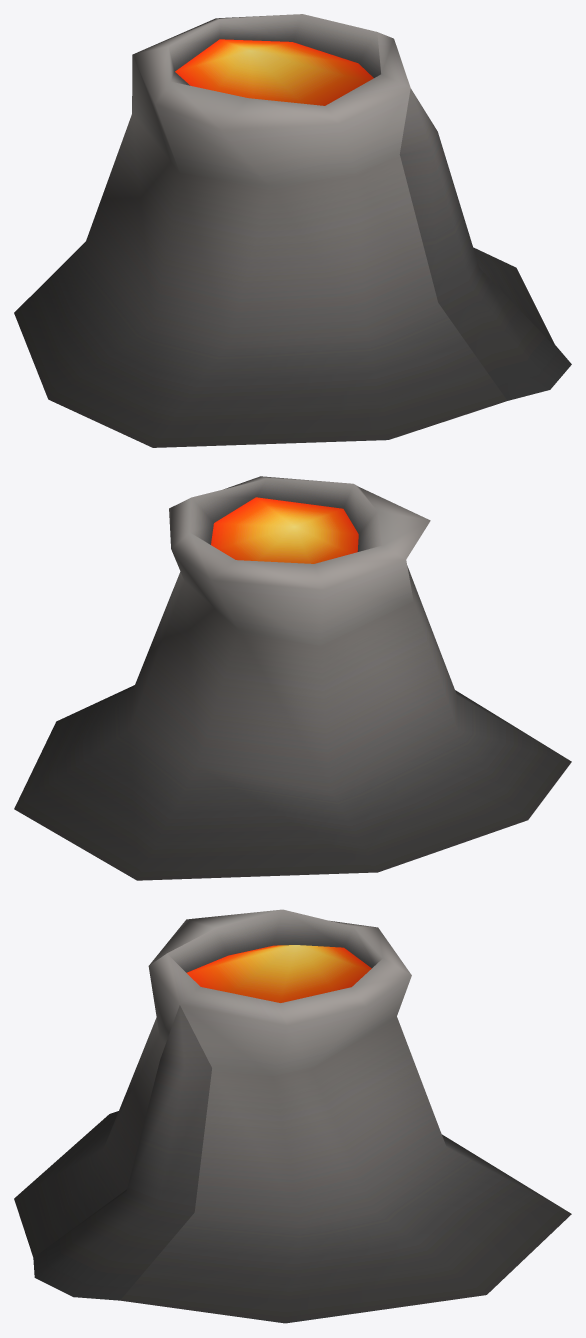
File: m_Vent07_A.fbx
The picture shows the model from 3 angles, top to bottom: view 1: azimuth 30°, elevation 25°; view 2: azimuth 150°, elevation 25°; view 3: azimuth 270°, elevation 25°; orthographic projection. The views are drawn at different scales.
Visible parts, largest first — view 1: m_Vent07_A; view 2: m_Vent07_A; view 3: m_Vent07_A.
Part boxes in pixels (x1,y1,x2,y2): m_Vent07_A: (14,14,571,447); m_Vent07_A: (14,476,571,880); m_Vent07_A: (14,909,571,1323).
Size of the model in its own units: 228 by 124 by 241.
